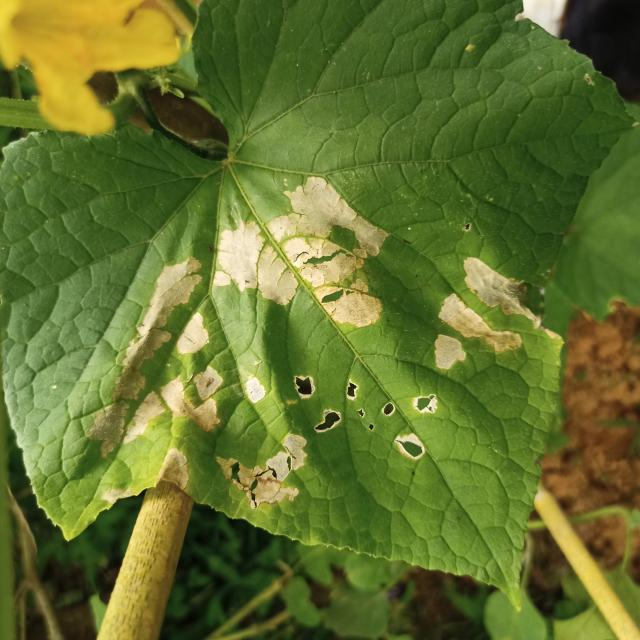disease_cucumber: (87, 177, 551, 506)
